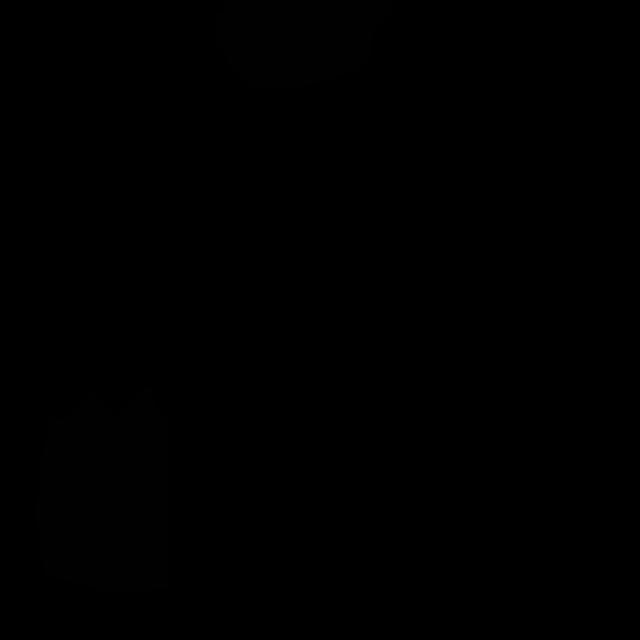rigid_plastic: (34, 385, 169, 594), (213, 0, 395, 90)
